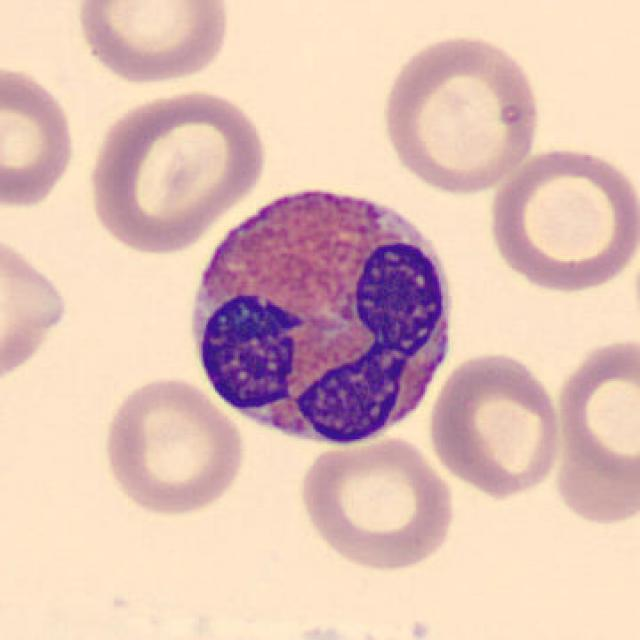Eosinophil: (176, 164, 464, 460)
RBC: (82, 84, 272, 256), (375, 28, 546, 196), (482, 141, 638, 296), (293, 432, 459, 575), (98, 374, 247, 518), (427, 347, 565, 501), (549, 328, 640, 524), (71, 0, 234, 86), (0, 226, 73, 393), (0, 60, 80, 212)
